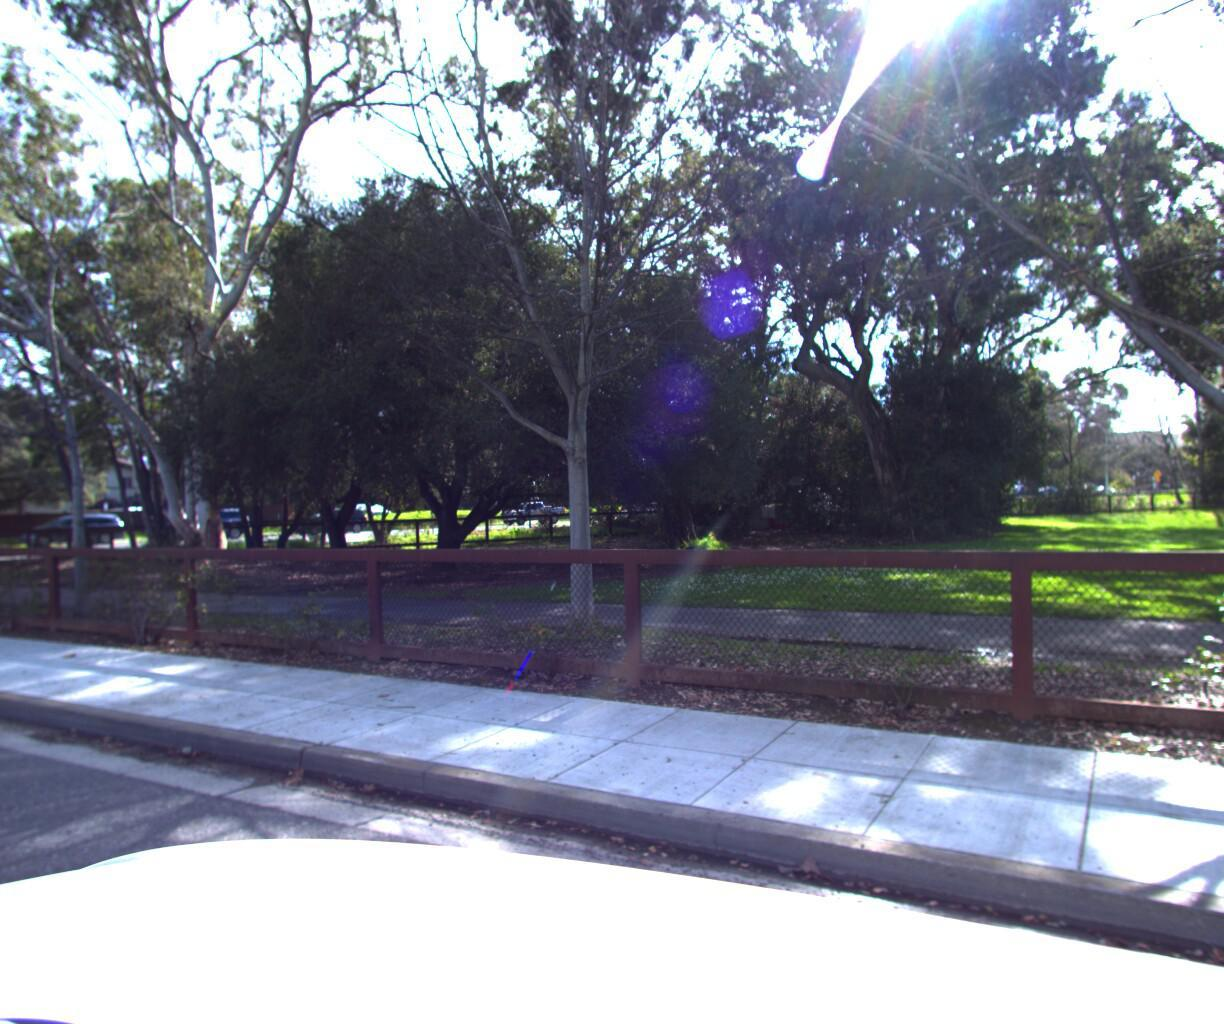car: (11, 510, 130, 547)
